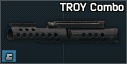AK TROY Industries handguard & gas block combo: (0, 0, 127, 64)
